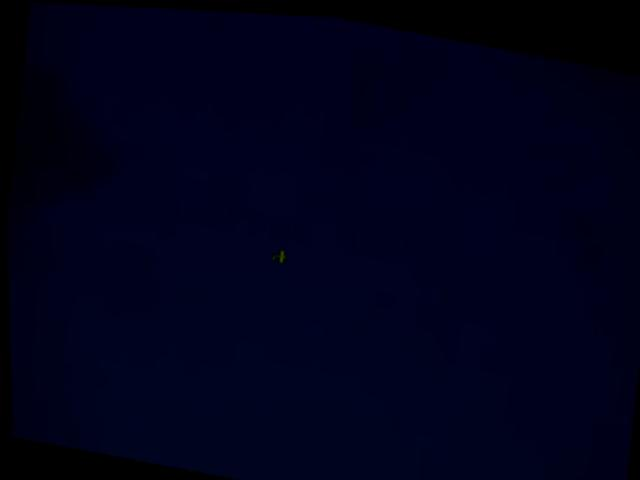plane: (269, 245, 287, 262)
